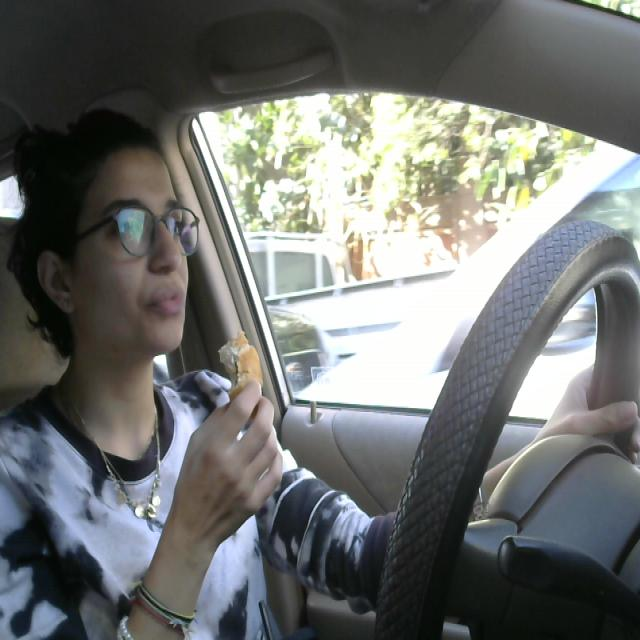eating: (207, 311, 287, 424)
